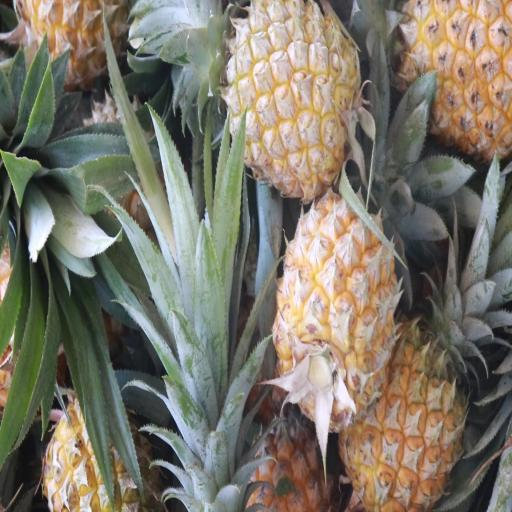------------------------------: (36, 394, 160, 512)
Pineapple - v8 v1: (279, 191, 397, 422), (227, 2, 362, 194), (348, 312, 464, 512), (375, 0, 512, 152)
